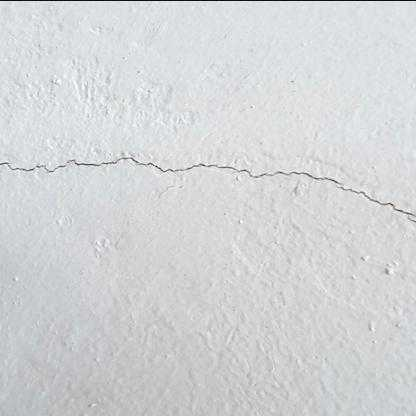crack: (0, 156, 342, 183), (336, 186, 414, 214), (407, 216, 416, 223)
